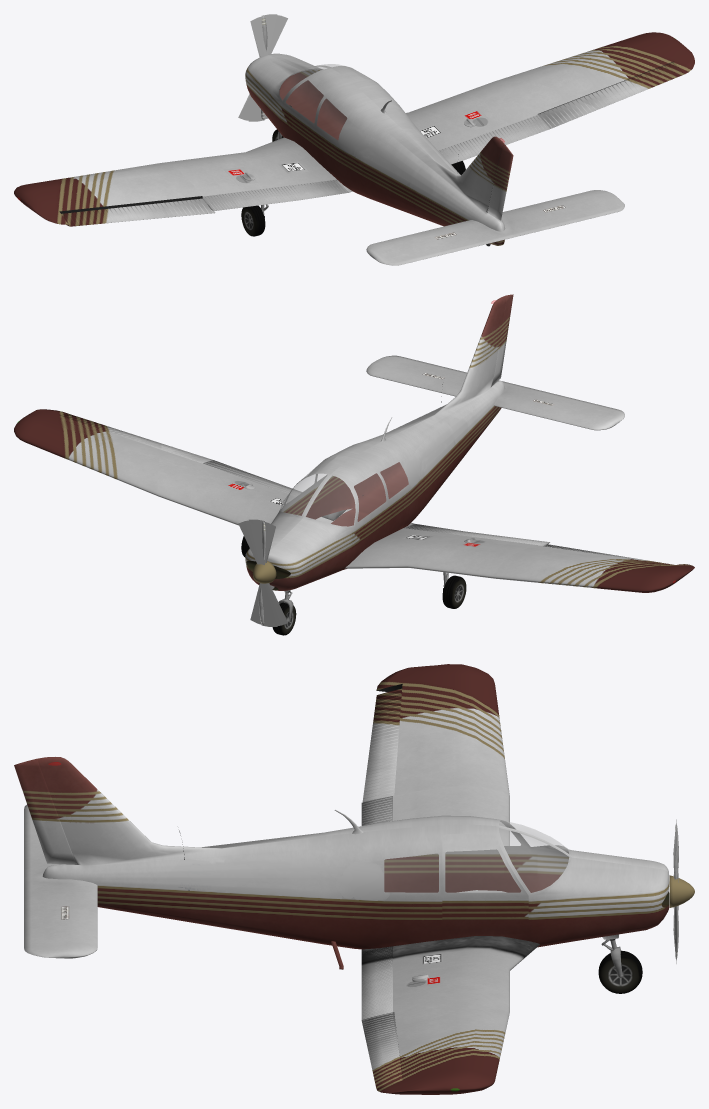
3 renders of one model, top to bottom at view 1: azimuth 30°, elevation 25°; view 2: azimuth 150°, elevation 25°; view 3: azimuth 270°, elevation 25°, orthographic. The views are drawn at different scales.
Parts seen in each view (by area): view 1: ailes, fuselage, ailes2, aileronD, voletG, aileronG, vitres, voletD, direction, propdisc, trous, roueG (+1 smaller); view 2: ailes, fuselage, ailes2, vitres, propdisc, aileronD, voletD, porteG, propblur, voletG, direction, roueG; view 3: fuselage, ailes, ailes2, vitres, porteG, aileronG, direction, vitreporteG, aileronD, voletD, roueA, voletG.
Boxes of the visible parts, bbox=[...] form: ailes: bbox=[14, 32, 694, 224]; fuselage: bbox=[245, 53, 505, 245]; ailes2: bbox=[366, 190, 624, 265]; aileronD: bbox=[538, 62, 684, 128]; voletG: bbox=[202, 179, 348, 210]; aileronG: bbox=[61, 198, 215, 226]; vitres: bbox=[280, 64, 346, 139]; voletD: bbox=[438, 115, 549, 164]; direction: bbox=[488, 144, 513, 220]; propdisc: bbox=[238, 15, 287, 120]; trous: bbox=[59, 61, 673, 213]; roueG: bbox=[241, 205, 265, 236]; ailes: bbox=[14, 409, 694, 592]; fuselage: bbox=[245, 296, 505, 590]; ailes2: bbox=[366, 355, 624, 430]; vitres: bbox=[280, 462, 408, 526]; propdisc: bbox=[238, 520, 287, 626]; aileronD: bbox=[60, 413, 213, 463]; voletD: bbox=[203, 460, 346, 520]; porteG: bbox=[282, 455, 335, 516]; propblur: bbox=[249, 519, 277, 626]; voletG: bbox=[404, 524, 549, 545]; direction: bbox=[492, 294, 513, 385]; roueG: bbox=[442, 575, 466, 608]; fuselage: bbox=[37, 757, 669, 949]; ailes: bbox=[361, 664, 539, 1094]; ailes2: bbox=[24, 804, 97, 958]; vitres: bbox=[384, 820, 568, 892]; porteG: bbox=[442, 834, 528, 929]; aileronG: bbox=[362, 688, 401, 802]; direction: bbox=[14, 758, 76, 864]; vitreporteG: bbox=[445, 849, 520, 892]; aileronD: bbox=[361, 1012, 402, 1088]; voletD: bbox=[361, 946, 392, 1019]; roueA: bbox=[598, 950, 642, 993]; voletG: bbox=[361, 796, 392, 825].
Size of the model in its own units: 10.55 by 7.15 by 2.73.
